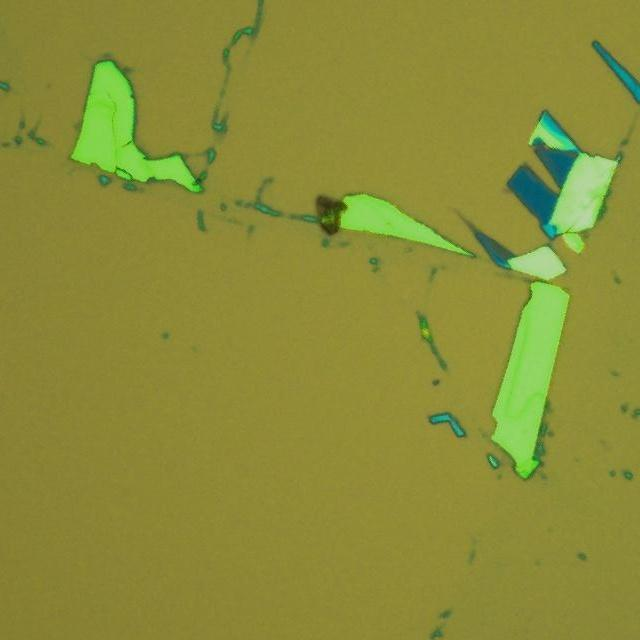monolayer-eWW4: (492, 244, 508, 260), (467, 220, 478, 234)
